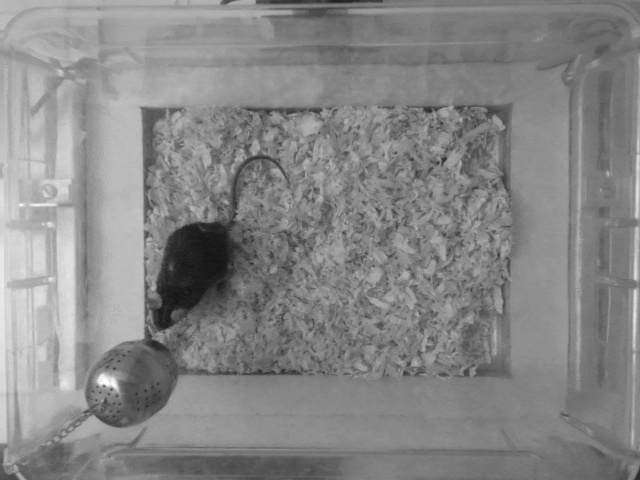mice: (147, 153, 293, 336)
